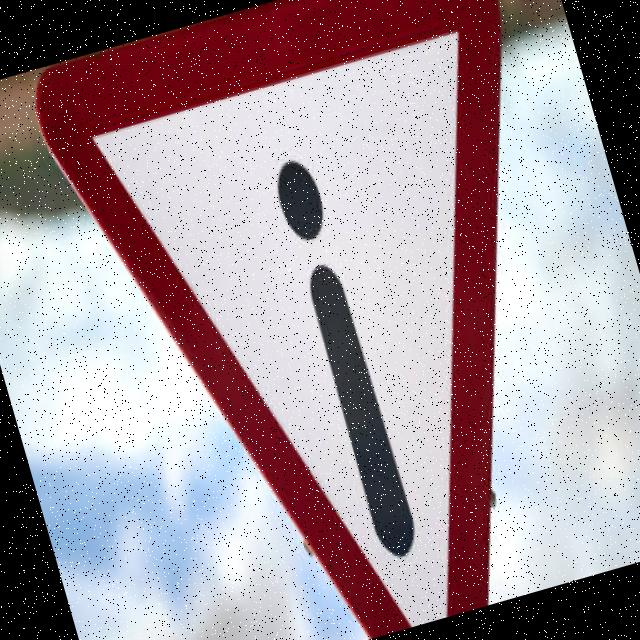warning: (1, 0, 640, 640)
